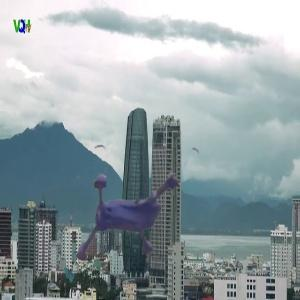drone: (67, 130, 208, 271)
